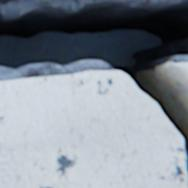broken_brick: (0, 70, 186, 187), (170, 62, 187, 84)
crack: (0, 0, 187, 187)
